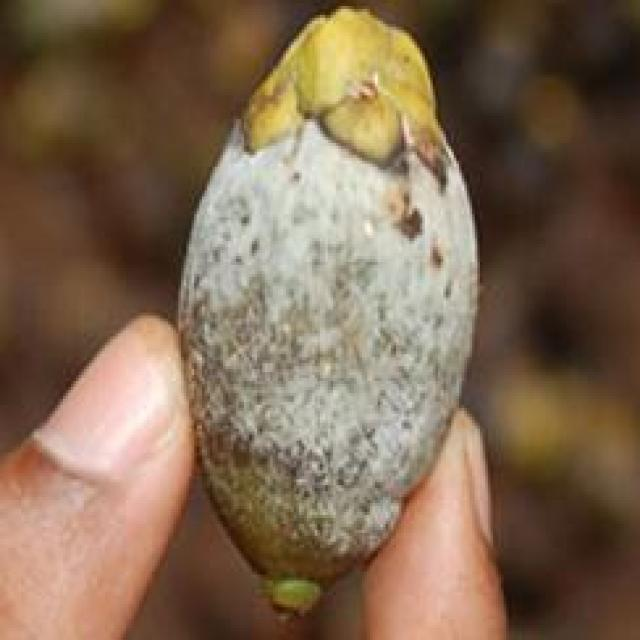damaged: (178, 6, 475, 619)
